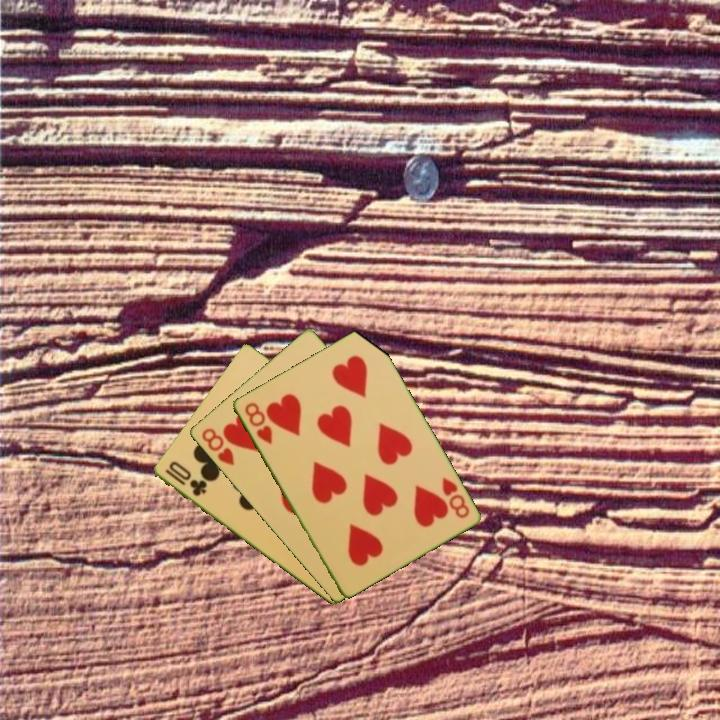10c: (161, 457, 210, 499)
8h: (198, 424, 237, 468), (240, 399, 275, 447), (438, 473, 472, 521)
